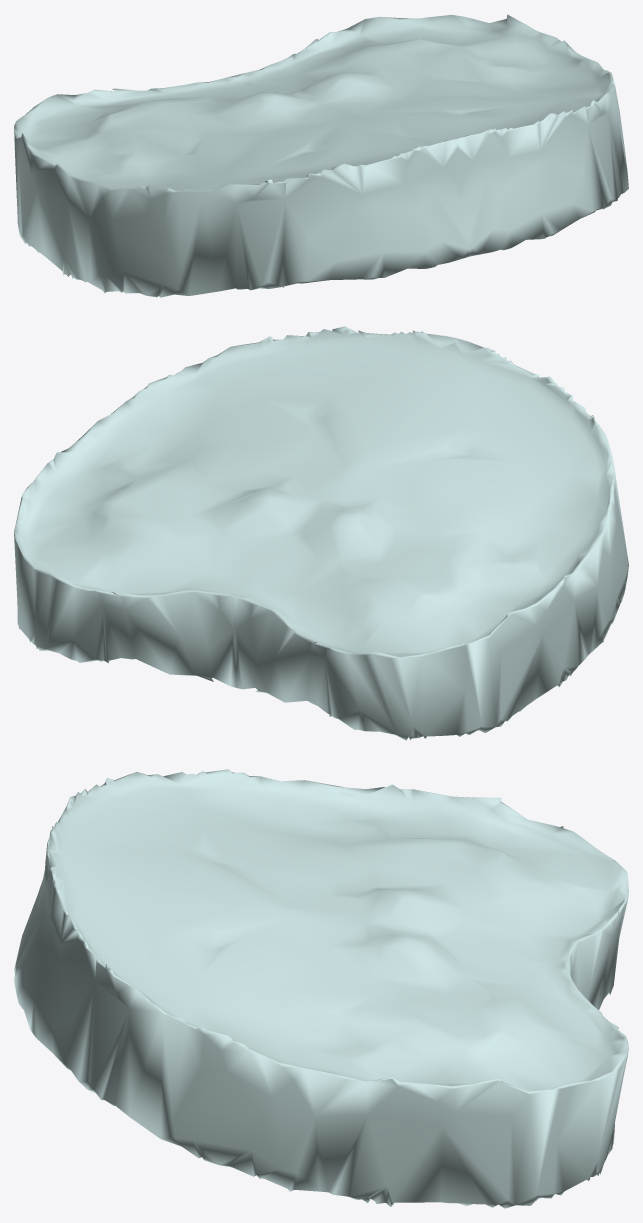
Rendered from Intervertebral_disc_L1-L2_Generated_Mesh_From_X3D.091.glb.
3 views of the same model, one above another, from view 1: azimuth 30°, elevation 25°; view 2: azimuth 150°, elevation 25°; view 3: azimuth 270°, elevation 25° (orthographic). The views are drawn at different scales.
Visible parts, largest first — view 1: Intervertebral_disc_L1-L2_Generated_Mesh_From_X3D.091; view 2: Intervertebral_disc_L1-L2_Generated_Mesh_From_X3D.091; view 3: Intervertebral_disc_L1-L2_Generated_Mesh_From_X3D.091.
Boxes of the visible parts, bbox=[...] form: Intervertebral_disc_L1-L2_Generated_Mesh_From_X3D.091: bbox=[14, 14, 628, 297]; Intervertebral_disc_L1-L2_Generated_Mesh_From_X3D.091: bbox=[14, 326, 628, 740]; Intervertebral_disc_L1-L2_Generated_Mesh_From_X3D.091: bbox=[14, 769, 628, 1208].
Bounding box in the file's own units: 0.0432 × 0.0153 × 0.0381.
